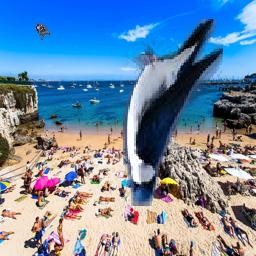Sparrow: (36, 24, 51, 41)
Swallow: (123, 20, 223, 207)
